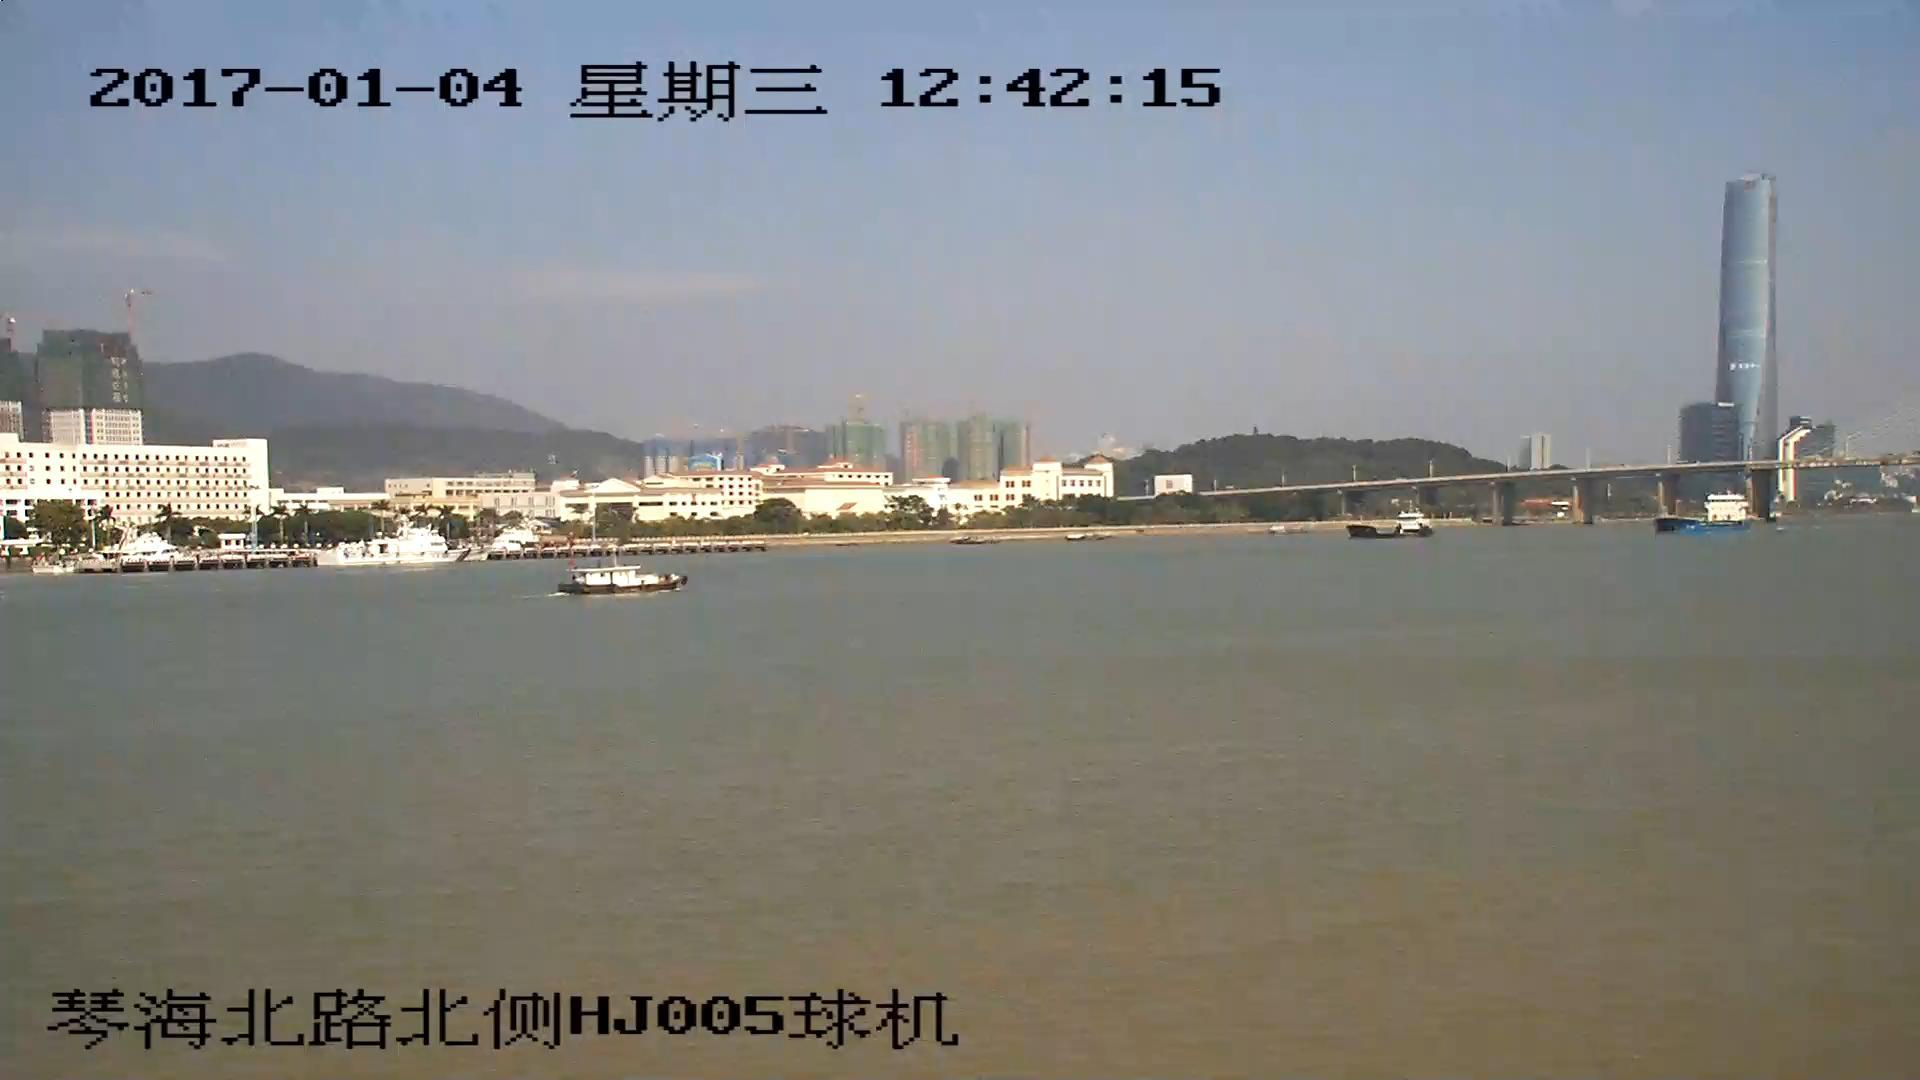Ship: (1656, 495, 1758, 538), (556, 564, 688, 596), (1352, 512, 1435, 541)
